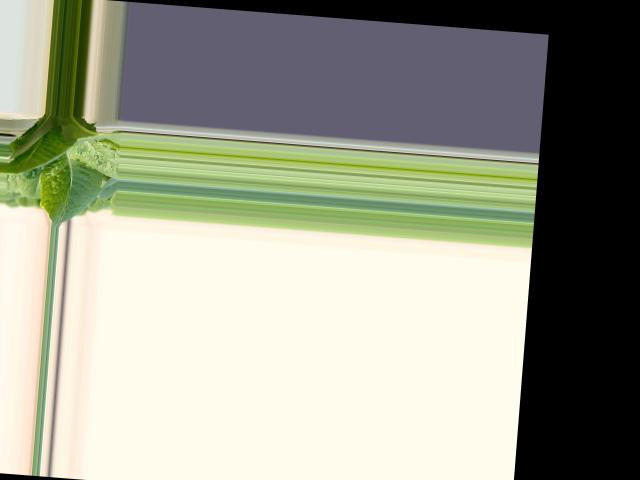lettuce: (5, 110, 111, 220)
